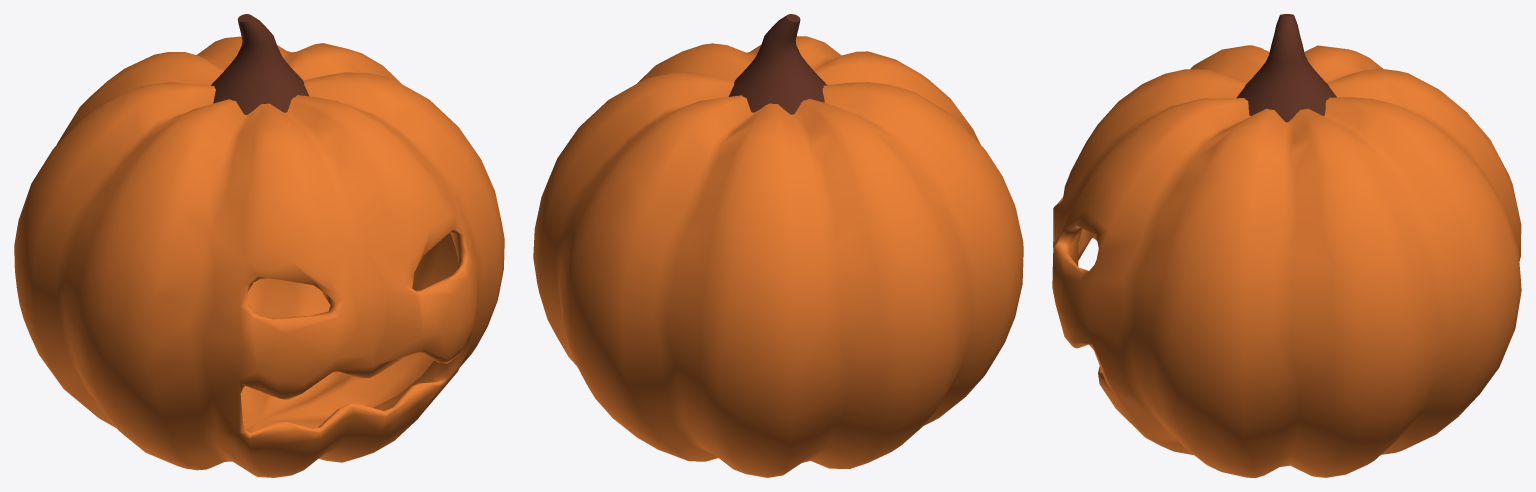
Rendered from Pumpkin.fbx.
3 renders of one model, left to right at view 1: azimuth 30°, elevation 25°; view 2: azimuth 150°, elevation 25°; view 3: azimuth 270°, elevation 25°, orthographic.
Parts seen in each view (by area): view 1: Pumkin, Pumkin_top; view 2: Pumkin, Pumkin_top; view 3: Pumkin, Pumkin_top.
Part boxes in pixels (x1,y1,x2,y2): Pumkin: [14, 36, 504, 477]; Pumkin_top: [211, 14, 308, 114]; Pumkin: [533, 36, 1023, 477]; Pumkin_top: [728, 14, 826, 114]; Pumkin: [1052, 45, 1521, 477]; Pumkin_top: [1236, 14, 1336, 122].
Size of the model in its own units: 190 by 187 by 191.
